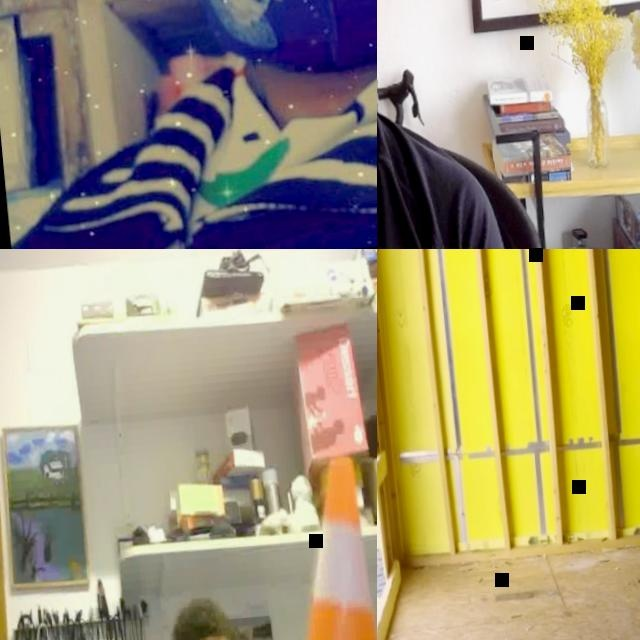NO-Hardhat: (166, 598, 233, 640)
NO-Safety Vest: (14, 60, 377, 249)
Person: (0, 0, 377, 249), (377, 0, 525, 249)
Safety Cone: (273, 446, 377, 640)
